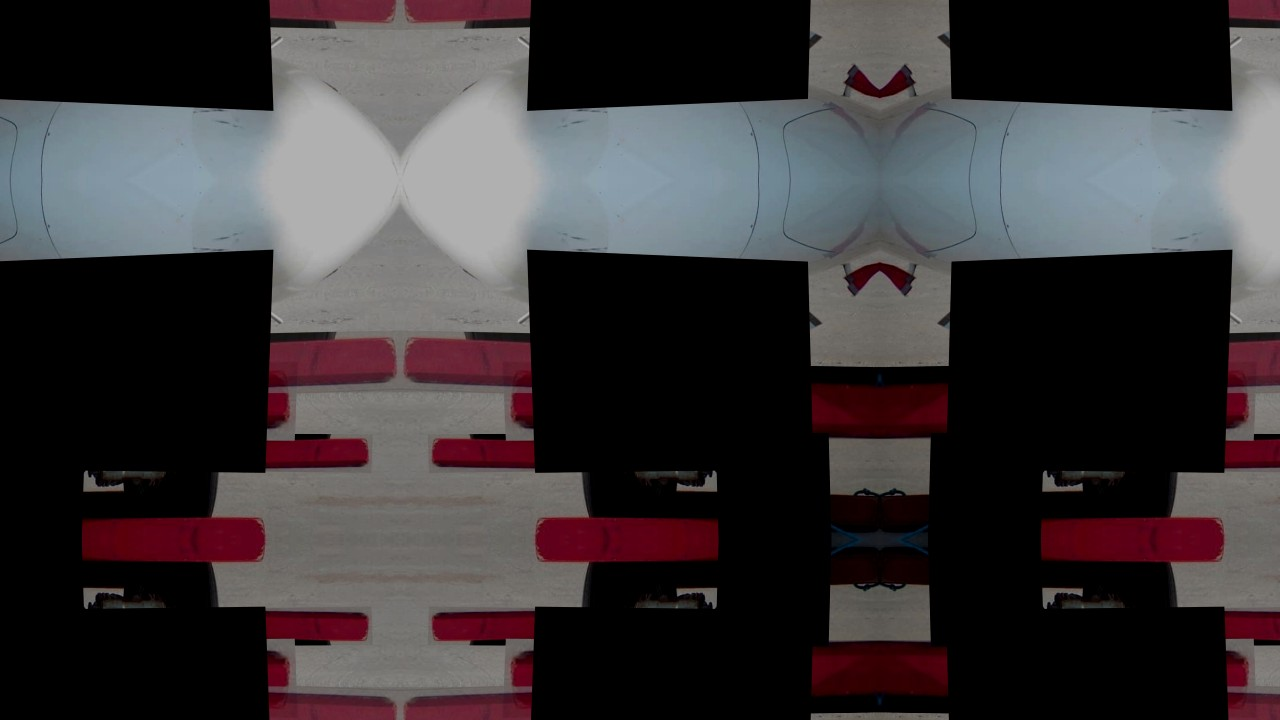chock: (503, 362, 880, 441), (880, 362, 1257, 441), (503, 639, 880, 718), (880, 639, 1257, 718), (0, 362, 297, 441), (0, 639, 297, 718), (58, 330, 400, 395), (400, 330, 742, 395), (1018, 330, 1280, 395), (650, 483, 880, 538), (880, 483, 1110, 538), (650, 542, 880, 597), (880, 542, 1110, 597), (58, 685, 400, 720), (400, 685, 742, 720), (530, 505, 831, 540), (929, 505, 1230, 540), (530, 540, 831, 575), (929, 540, 1230, 575), (58, 0, 400, 30), (400, 0, 742, 30), (0, 505, 270, 540), (0, 540, 270, 575), (1018, 685, 1280, 720), (151, 434, 372, 473), (428, 434, 649, 473), (151, 607, 372, 646), (428, 607, 649, 646), (0, 483, 150, 538), (0, 542, 150, 597), (1018, 0, 1280, 30), (1111, 434, 1280, 473), (1111, 607, 1280, 646)
wheel: (127, 345, 223, 520), (577, 345, 673, 520), (1087, 345, 1183, 520), (714, 354, 811, 522), (949, 354, 1046, 522), (714, 558, 811, 720), (949, 558, 1046, 720), (127, 560, 223, 720), (577, 560, 673, 720), (1087, 560, 1183, 720), (0, 354, 86, 522), (0, 558, 86, 720)
